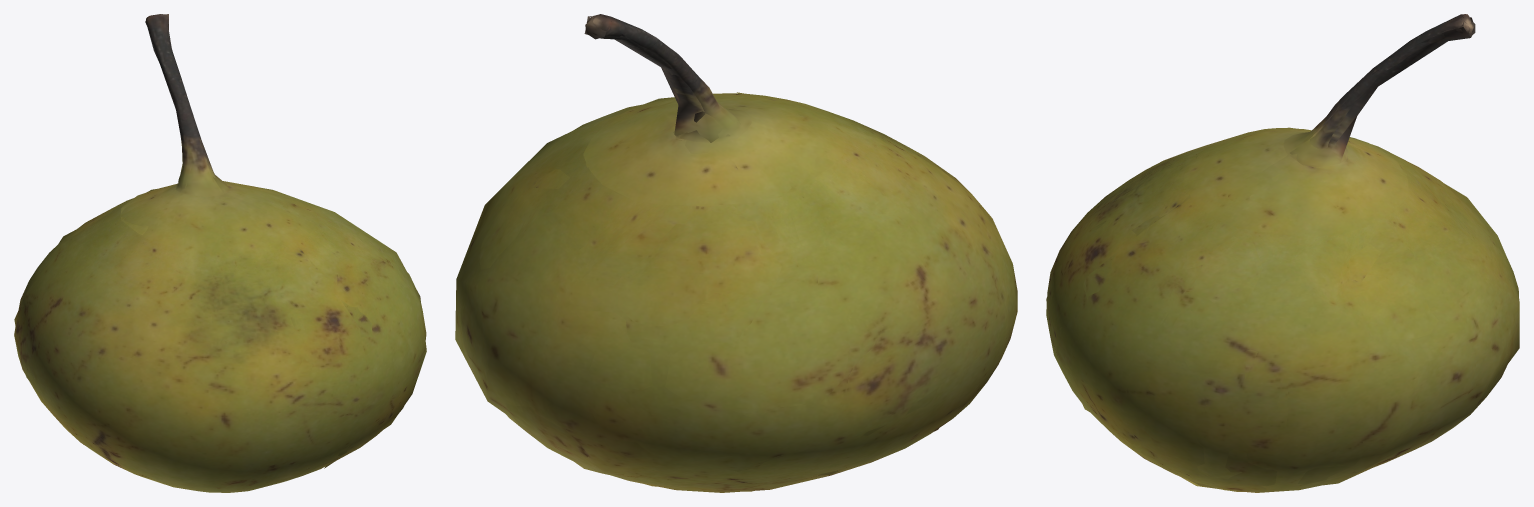
The model's file is asian-pear.glb.
3 views of the same model, side by side, from view 1: azimuth 30°, elevation 25°; view 2: azimuth 150°, elevation 25°; view 3: azimuth 270°, elevation 25° (orthographic). The views are drawn at different scales.
Parts seen in each view (by area): view 1: asian-pear-fine, asian-pear-coarse; view 2: asian-pear-fine, asian-pear-coarse; view 3: asian-pear-coarse, asian-pear-fine.
Boxes of the visible parts, box(x1,y1,x2,y2) form: asian-pear-fine: box(14, 14, 426, 492); asian-pear-coarse: box(14, 14, 426, 468); asian-pear-fine: box(459, 14, 1017, 492); asian-pear-coarse: box(455, 15, 1011, 491); asian-pear-coarse: box(1046, 17, 1519, 491); asian-pear-fine: box(1046, 14, 1519, 492).
Size of the model in its own units: 1 by 1 by 1.
1 material, 1 textured.
